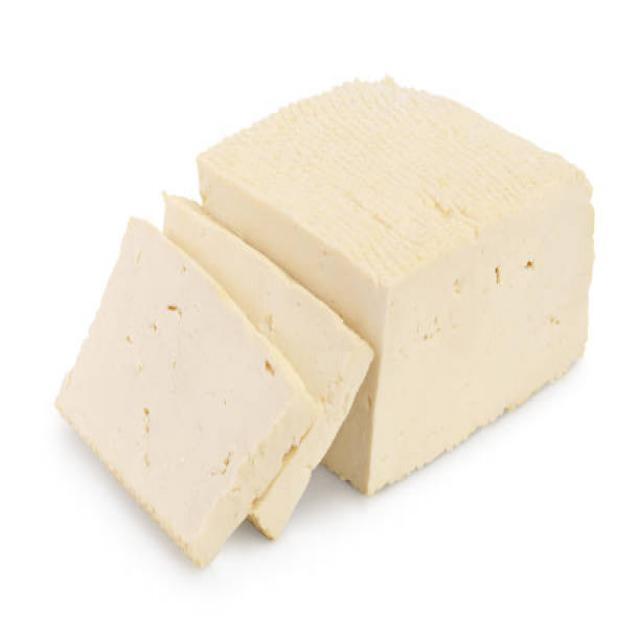Tofu Block: (316, 62, 596, 488), (52, 209, 310, 568)
